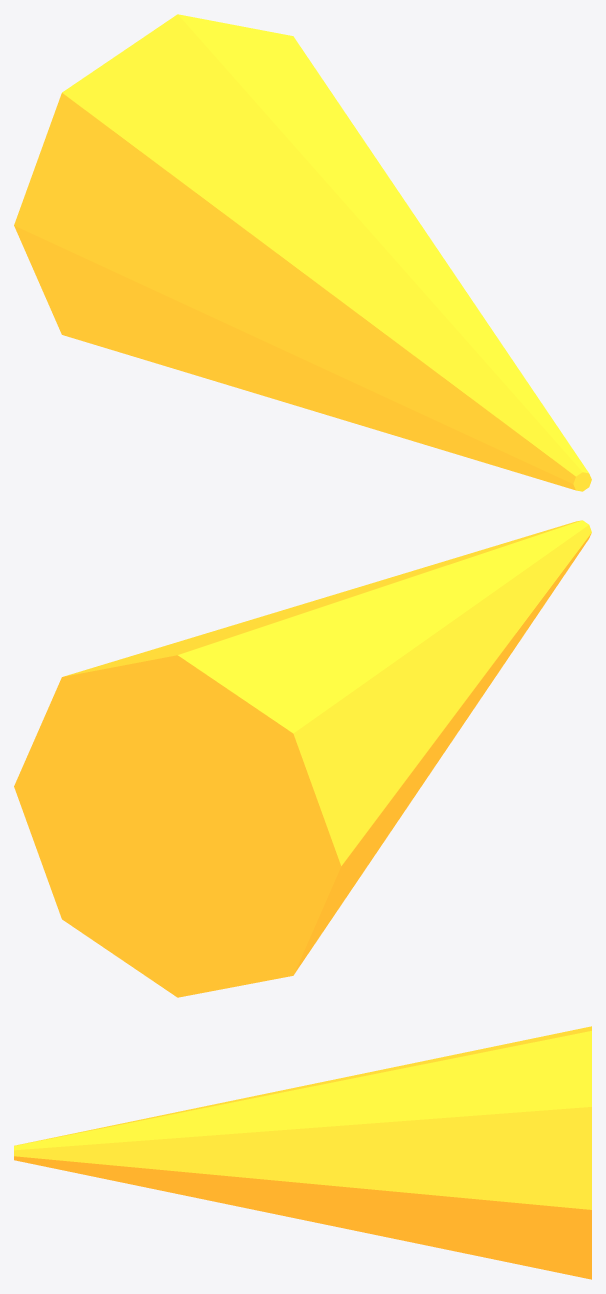
Rendered from VXFX_MUZZLE_v002.fbx.
The picture shows the model from 3 angles, top to bottom: view 1: azimuth 30°, elevation 25°; view 2: azimuth 150°, elevation 25°; view 3: azimuth 270°, elevation 25°; orthographic projection. The views are drawn at different scales.
Visible parts, largest first — view 1: Orange muzzle flare; view 2: Orange muzzle flare; view 3: Orange muzzle flare.
Boxes of the visible parts, box(x1,y1,x2,y2) form: Orange muzzle flare: box(14, 14, 591, 491); Orange muzzle flare: box(14, 520, 591, 997); Orange muzzle flare: box(14, 1026, 591, 1279).
Size of the model in its own units: 7 by 7 by 15.
